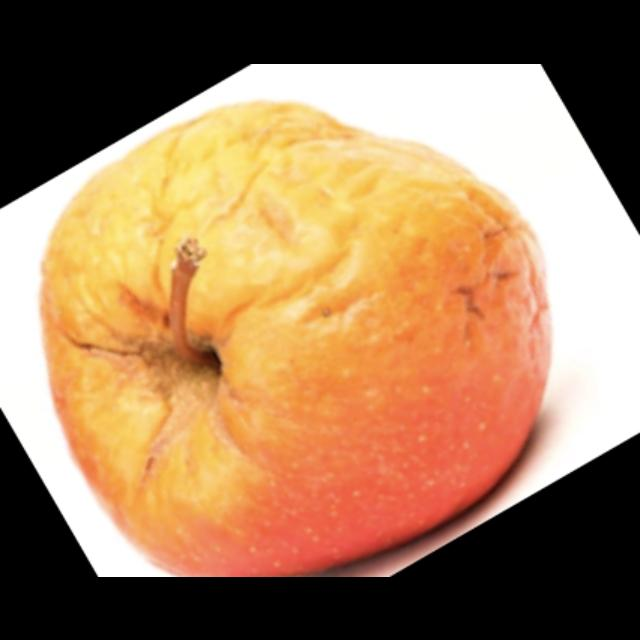Apel Tidak Segar: (42, 94, 550, 570)
